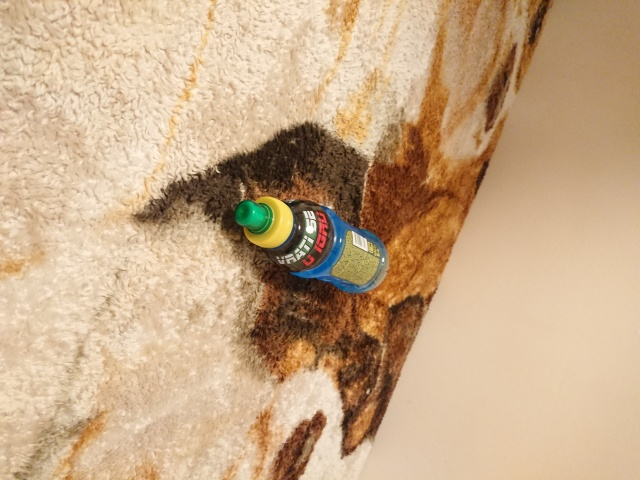Vindi Iso Sport Forest Strawberries 500mL: (232, 193, 390, 294)
